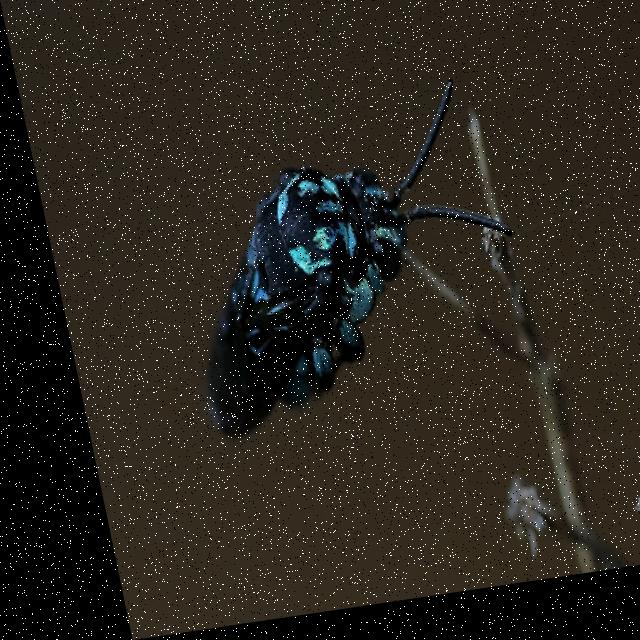Xylocopa: (129, 60, 534, 458)
